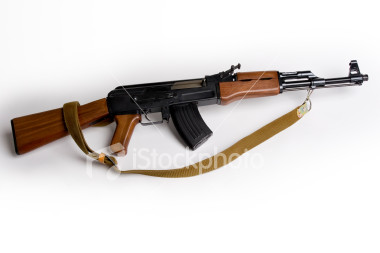rifle: (9, 59, 365, 183)
